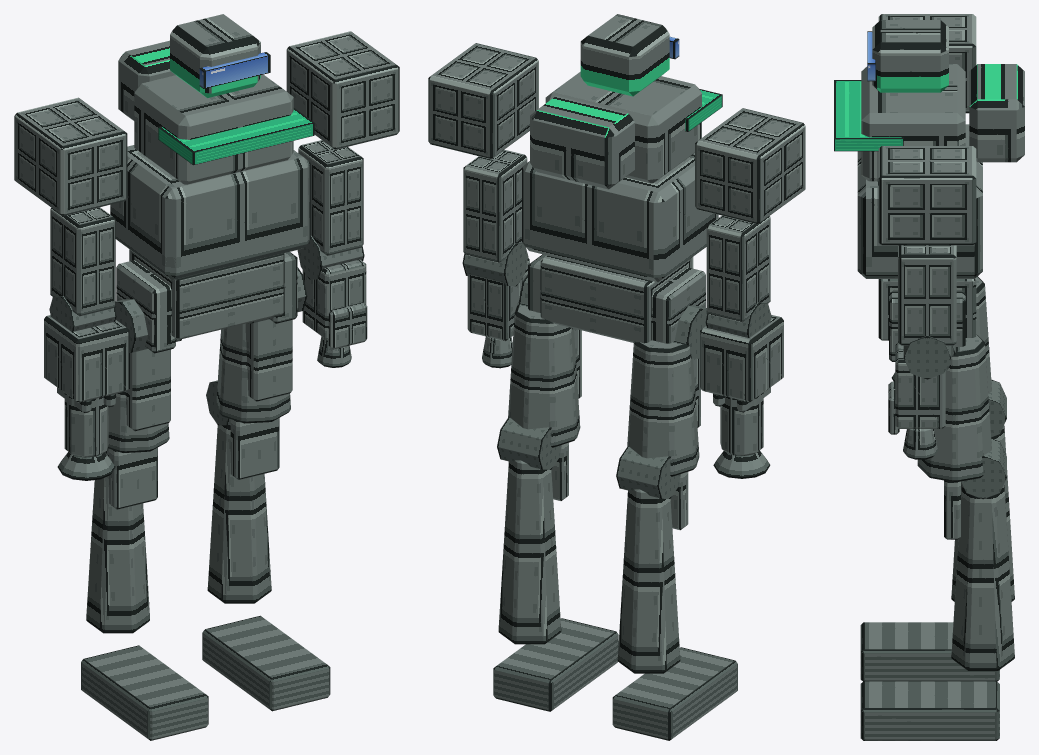
Rendered from mech_sweeper.glb.
3 views of the same model, side by side, from view 1: azimuth 30°, elevation 25°; view 2: azimuth 150°, elevation 25°; view 3: azimuth 270°, elevation 25° (orthographic).
Visible parts, largest first — view 1: Torso-head, root_Pelvis, R_shoulder, L_shin, L_shoulder, R_shin, R_forearm, L_foot, R_foot, L_thigh, R_upper_arm, L_upper_arm (+7 smaller); view 2: Torso-head, root_Pelvis, R_shin, R_shoulder, L_shin, L_shoulder, R_forearm, R_thigh, L_thigh, R_foot, L_foot, R_upper_arm (+8 smaller); view 3: Torso-head, L_shin, L_shoulder, L_foot, L_thigh, R_foot, L_upper_arm, L_forearm, root_Pelvis, sw_glow, R_shoulder, L_elbow (+5 smaller).
Part boxes in pixels (x1,y1,x2,y2): Torso-head: (110,14,310,280); root_Pelvis: (116,249,297,353); R_shoulder: (14,97,127,215); L_shin: (207,418,279,603); L_shoulder: (286,31,399,149); R_shin: (86,447,157,633); R_forearm: (44,315,129,480); L_foot: (202,615,330,711); R_foot: (81,645,208,740); L_thigh: (216,319,292,423); R_upper_arm: (50,207,115,316); L_upper_arm: (298,140,363,255); Torso-head: (522,14,718,282); root_Pelvis: (528,254,705,343); R_shin: (617,472,688,673); R_shoulder: (695,108,805,224); L_shin: (498,442,568,644); L_shoulder: (428,43,538,158); R_forearm: (700,315,783,478); R_thigh: (627,340,700,476); L_thigh: (508,303,581,447); R_foot: (612,647,737,740); L_foot: (493,618,618,711); R_upper_arm: (706,215,770,322); Torso-head: (857,20,1024,278); L_shin: (944,480,1014,670); L_shoulder: (878,146,976,245); L_foot: (860,681,999,740); L_thigh: (917,334,991,482); R_foot: (860,622,999,681); L_upper_arm: (898,245,956,345); L_forearm: (888,343,945,459); root_Pelvis: (878,278,976,361); sw_glow: (834,80,903,151); R_shoulder: (878,14,976,113); L_elbow: (903,335,950,379).
Size of the model in its own units: 16.74 by 31.68 by 8.22.
Materials: 1 (1 with a texture image).
